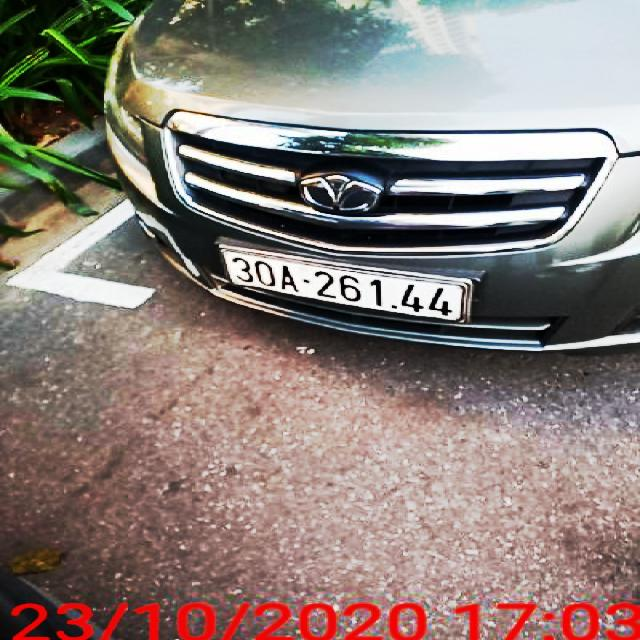license_plate: (223, 248, 468, 322)
